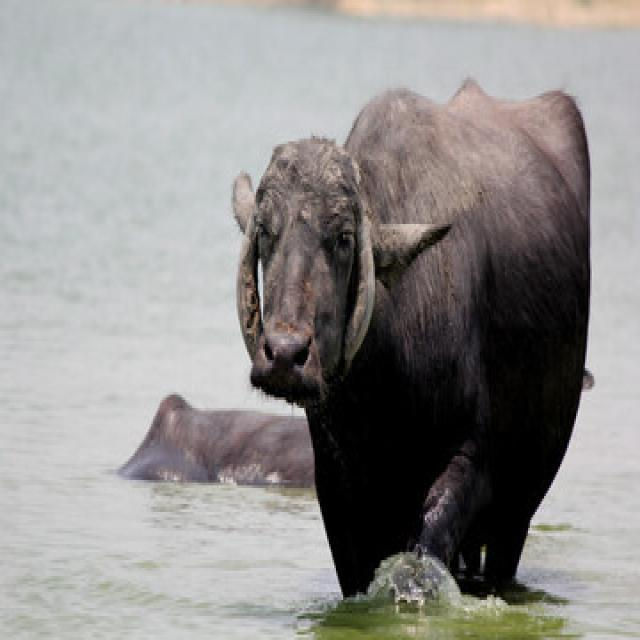Buffalo: (231, 79, 592, 596)
